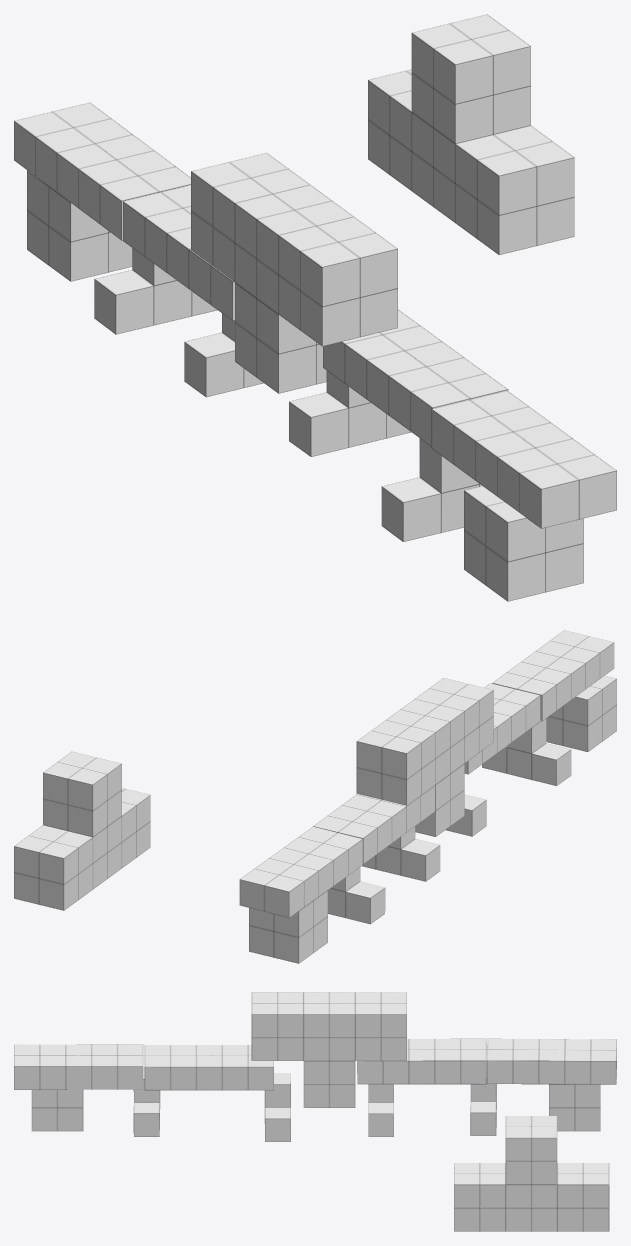
3 views of the same model, one above another, from view 1: azimuth 30°, elevation 25°; view 2: azimuth 150°, elevation 25°; view 3: azimuth 270°, elevation 25° (orthographic). The views are drawn at different scales.
Visible parts, largest first — view 1: GridBigTShape_0, GridBigTShape_0:1, GridPlank_0, GridPlank_0:2, GridPlank_0:3, Plane/BasicEnvironment/StartCube-1, GridPlank_0:1, Plane/BasicEnvironment/StartCube-2, GridTShape_0, GridTShape_0:2, GridTShape_0:1, GridTShape_0:3; view 2: GridBigTShape_0, GridBigTShape_0:1, GridPlank_0:2, GridPlank_0, GridPlank_0:1, Plane/BasicEnvironment/StartCube-2, Plane/BasicEnvironment/StartCube-1, GridTShape_0, GridPlank_0:3, GridTShape_0:3, GridTShape_0:2, GridTShape_0:1; view 3: GridBigTShape_0, GridBigTShape_0:1, GridPlank_0, GridPlank_0:2, GridPlank_0:3, GridPlank_0:1, Plane/BasicEnvironment/StartCube-2, Plane/BasicEnvironment/StartCube-1, GridTShape_0:1, GridTShape_0:2, GridTShape_0:3, GridTShape_0.
Part boxes in pixels (x1,y1,x2,y2): GridBigTShape_0: (368,14,574,254); GridBigTShape_0:1: (191,153,397,393); GridPlank_0: (431,390,616,528); GridPlank_0:2: (14,102,190,240); GridPlank_0:3: (323,309,508,446); Plane/BasicEnvironment/StartCube-1: (464,486,583,601); GridPlank_0:1: (123,185,234,320); Plane/BasicEnvironment/StartCube-2: (27,170,132,281); GridTShape_0: (381,438,482,541); GridTShape_0:2: (94,248,217,334); GridTShape_0:1: (289,371,411,456); GridTShape_0:3: (184,313,263,397); GridBigTShape_0: (14,751,150,910); GridBigTShape_0:1: (356,678,493,836); GridPlank_0:2: (239,826,362,917); GridPlank_0: (492,630,614,721); GridPlank_0:1: (313,785,435,864); Plane/BasicEnvironment/StartCube-2: (249,890,327,963); Plane/BasicEnvironment/StartCube-1: (546,675,616,751); GridTShape_0: (482,718,571,785); GridPlank_0:3: (464,683,540,774); GridTShape_0:3: (362,826,440,881); GridTShape_0:2: (328,867,385,924); GridTShape_0:1: (445,794,486,836); GridBigTShape_0: (454,1116,609,1231); GridBigTShape_0:1: (251,992,406,1107); GridPlank_0: (14,1044,143,1089); GridPlank_0:2: (487,1038,616,1084); GridPlank_0:3: (144,1045,273,1090); GridPlank_0:1: (357,1038,486,1084); Plane/BasicEnvironment/StartCube-2: (549,1084,600,1131); Plane/BasicEnvironment/StartCube-1: (31,1089,83,1131); GridTShape_0:1: (264,1073,290,1141); GridTShape_0:2: (470,1067,496,1135); GridTShape_0:3: (368,1084,393,1136); GridTShape_0: (133,1068,160,1136).
Bounding box in the file's own units: 1.17 × 0.5002 × 2.33.
